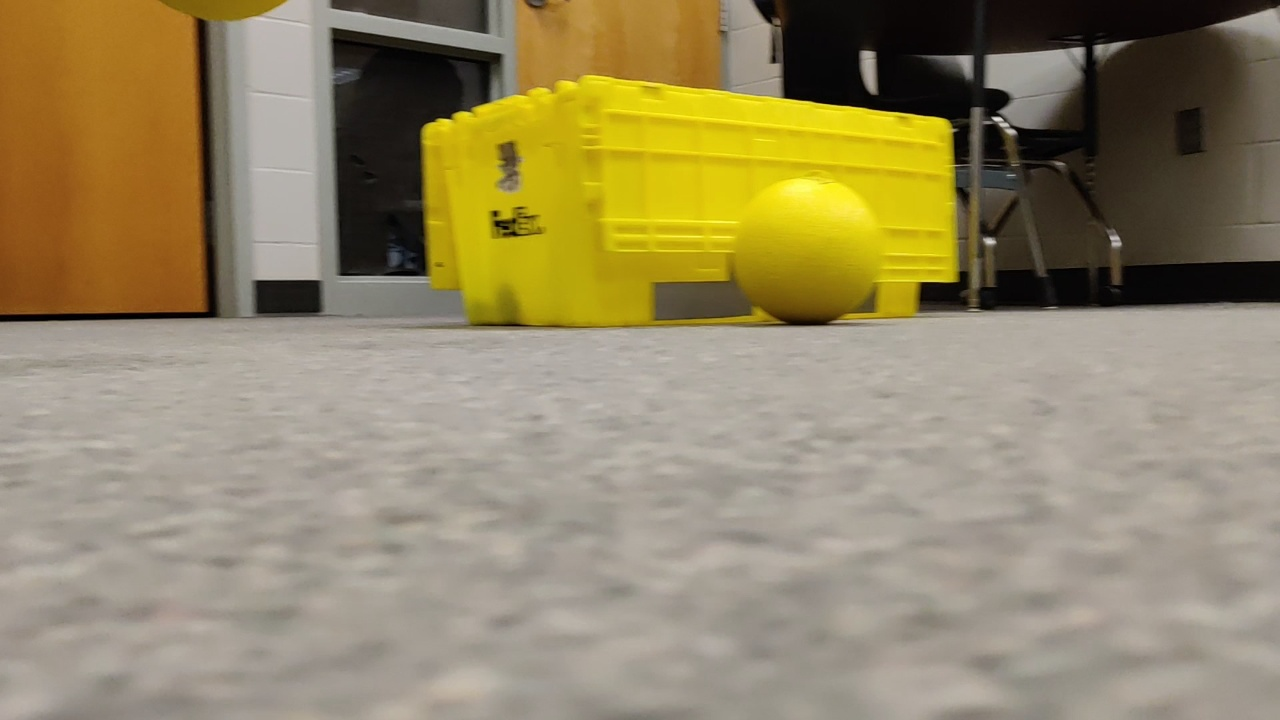Ball: (717, 160, 903, 336), (155, 1, 277, 26)
